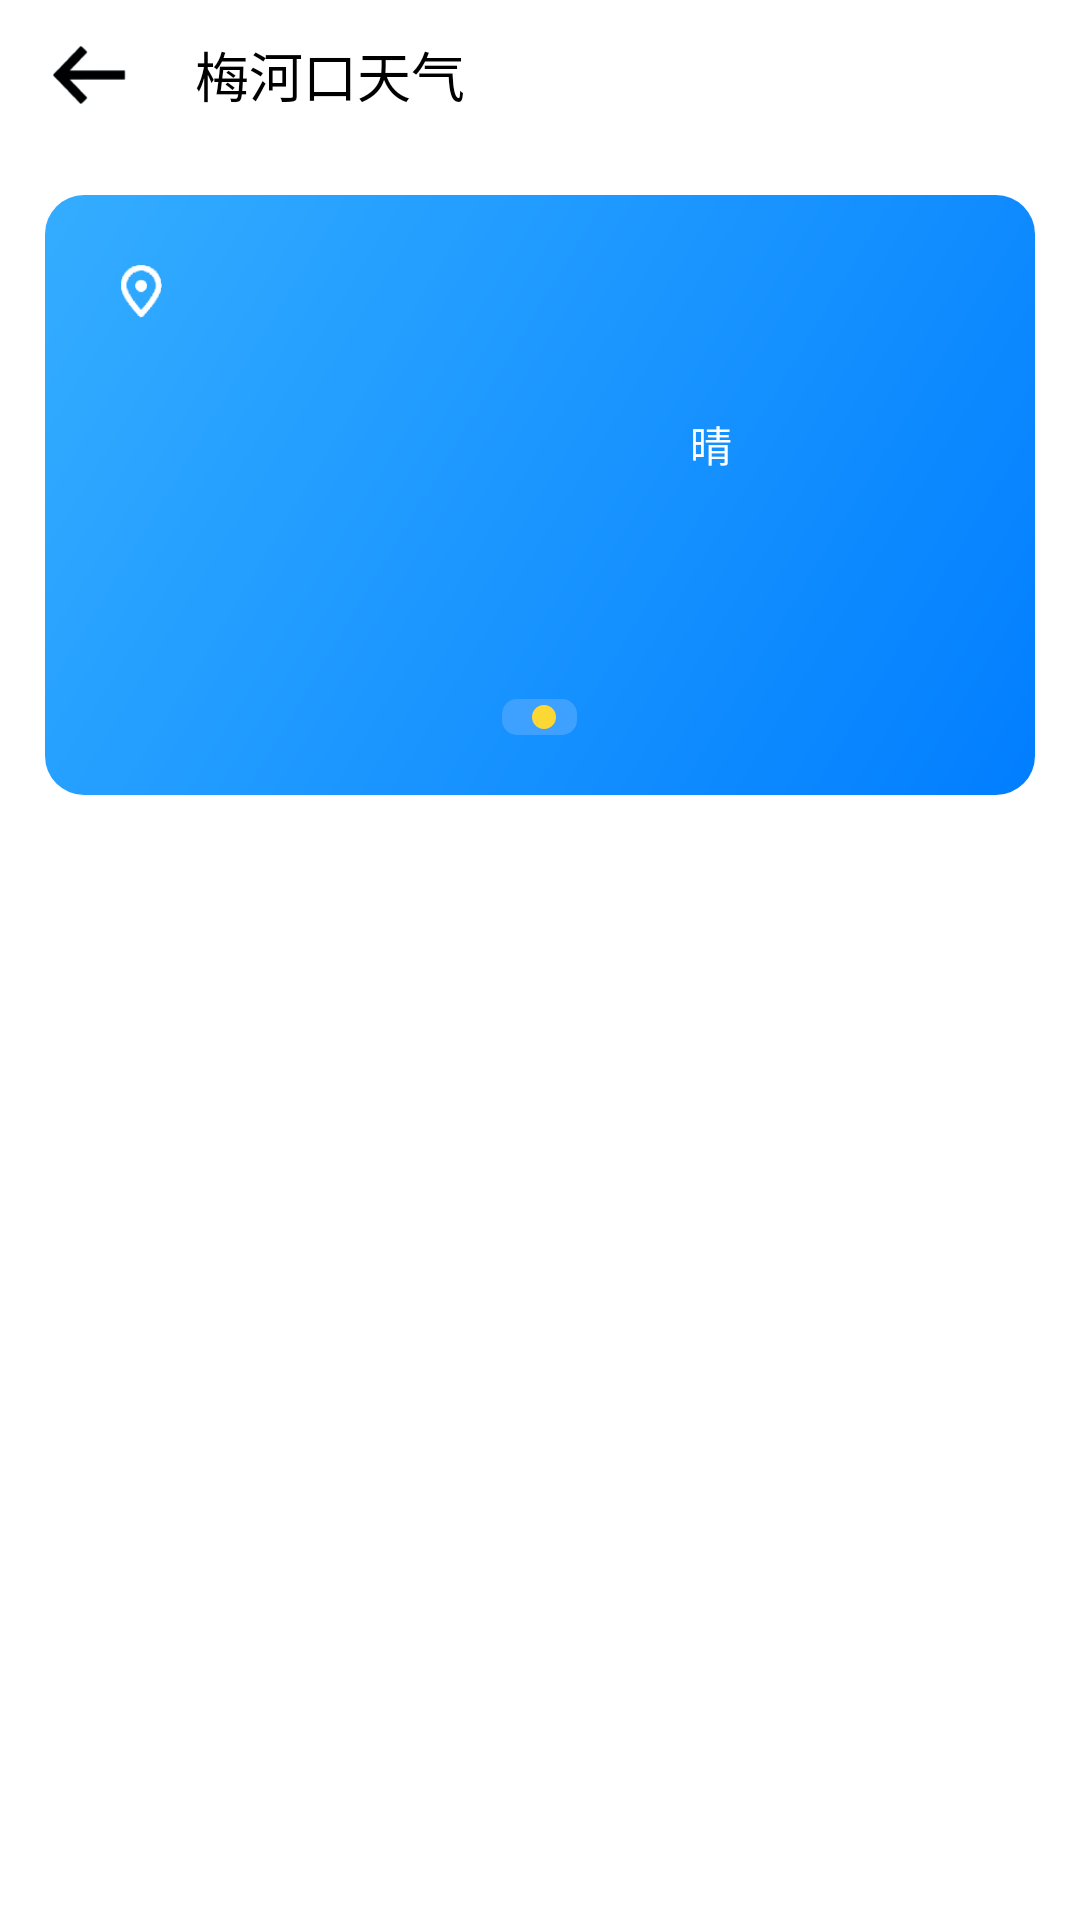

Icon click points for this 1080 x 1920 phone screenshot, format [x,y]:
left arrow: [89,75]
